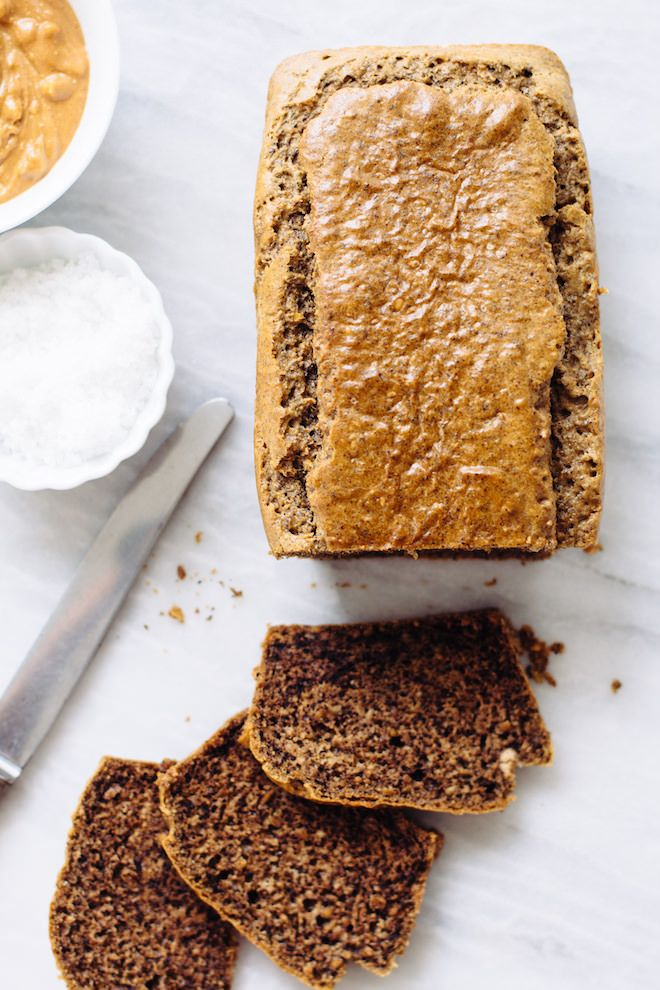slice of bread: (287, 72, 573, 550), (167, 763, 415, 973), (245, 635, 542, 810), (68, 782, 222, 983)
